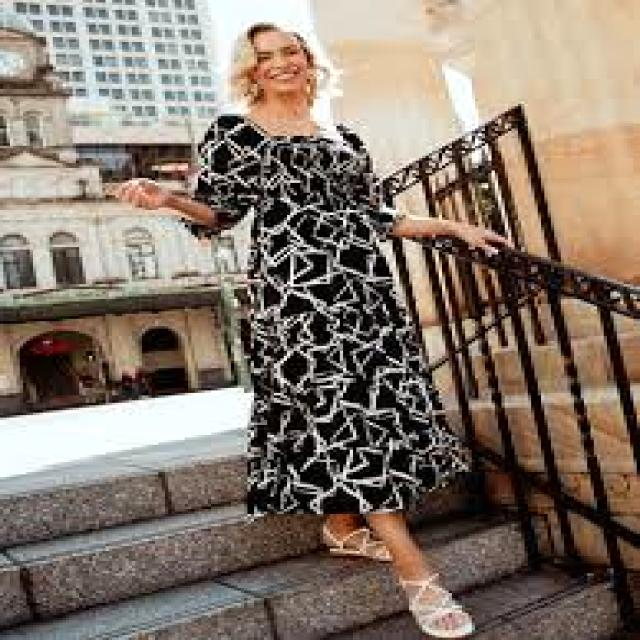dress: (195, 114, 468, 516)
foot-wear: (400, 574, 475, 637), (324, 524, 392, 560)
